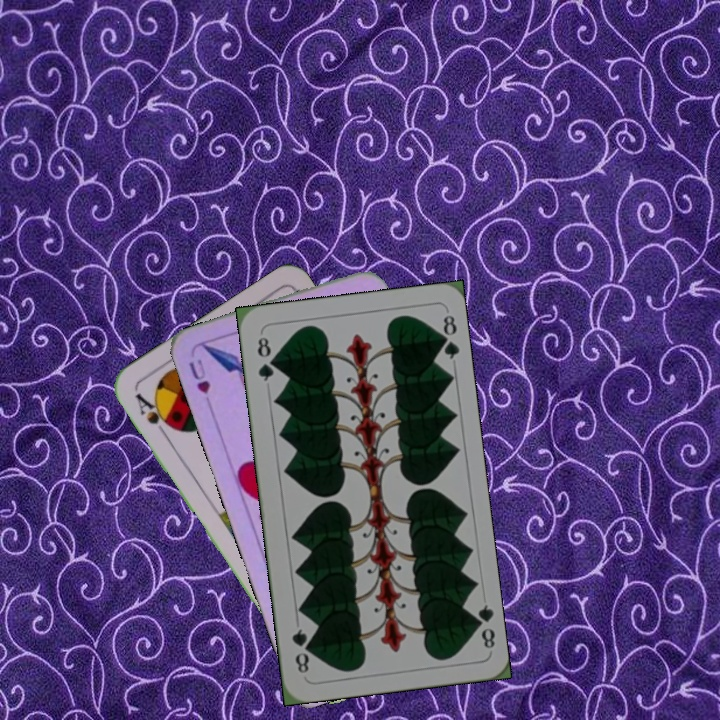G8: (468, 600, 498, 651), (253, 333, 277, 384)
HU: (184, 354, 213, 397)
SA: (131, 388, 177, 440)
